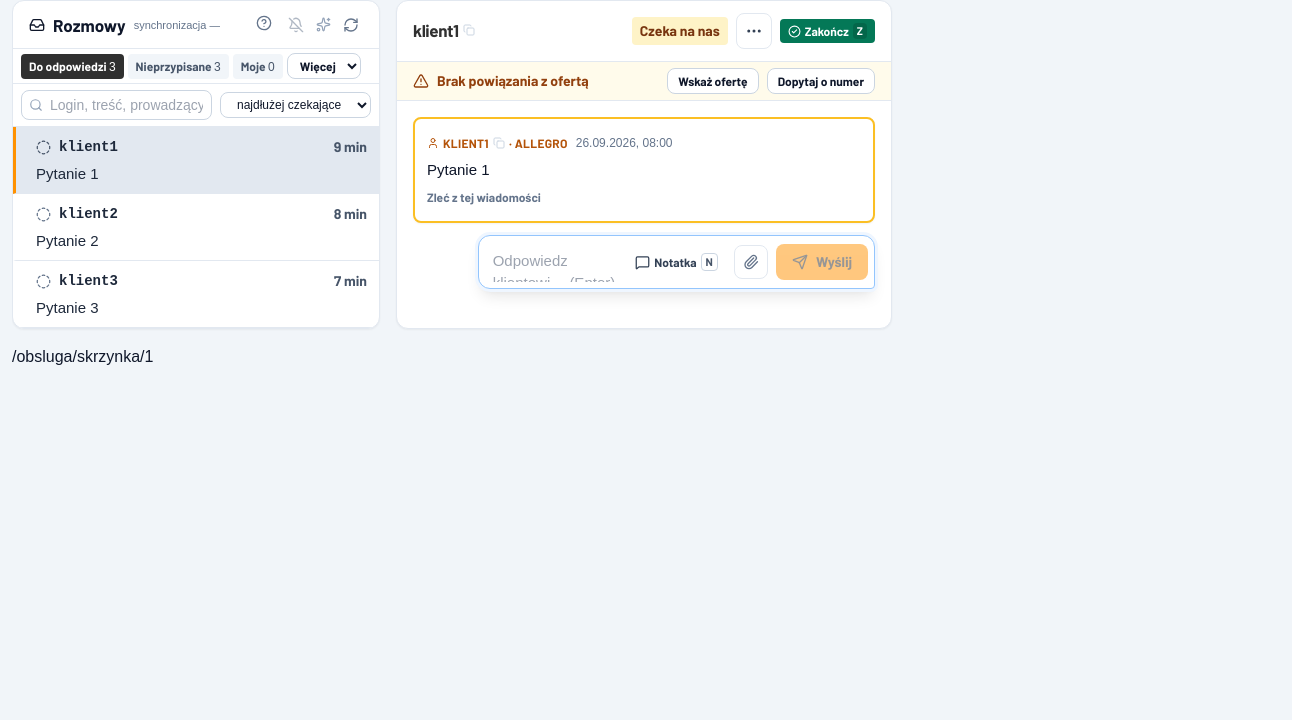
Test: EKRAN SKRZYNKI: pętla pracy › „Cofnij” po wysyłce wraca do rozmowy z całą treścią
This screenshot has width=1292, height=720.
Type "Moja odpowiedź" into the text box named "Szkic odpowiedzi" at (556, 262), box [493,242,619,282]
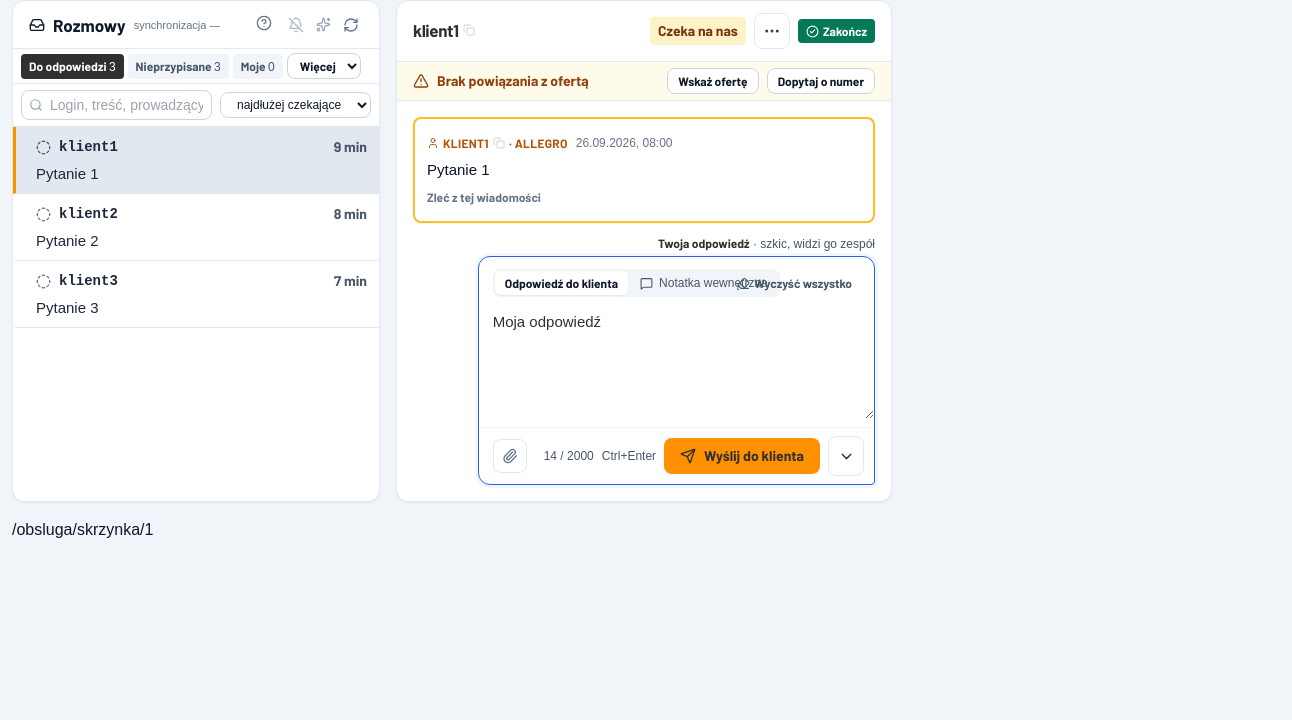
Click the button "Wyślij do klienta" at (742, 456), box [664,438,820,474]
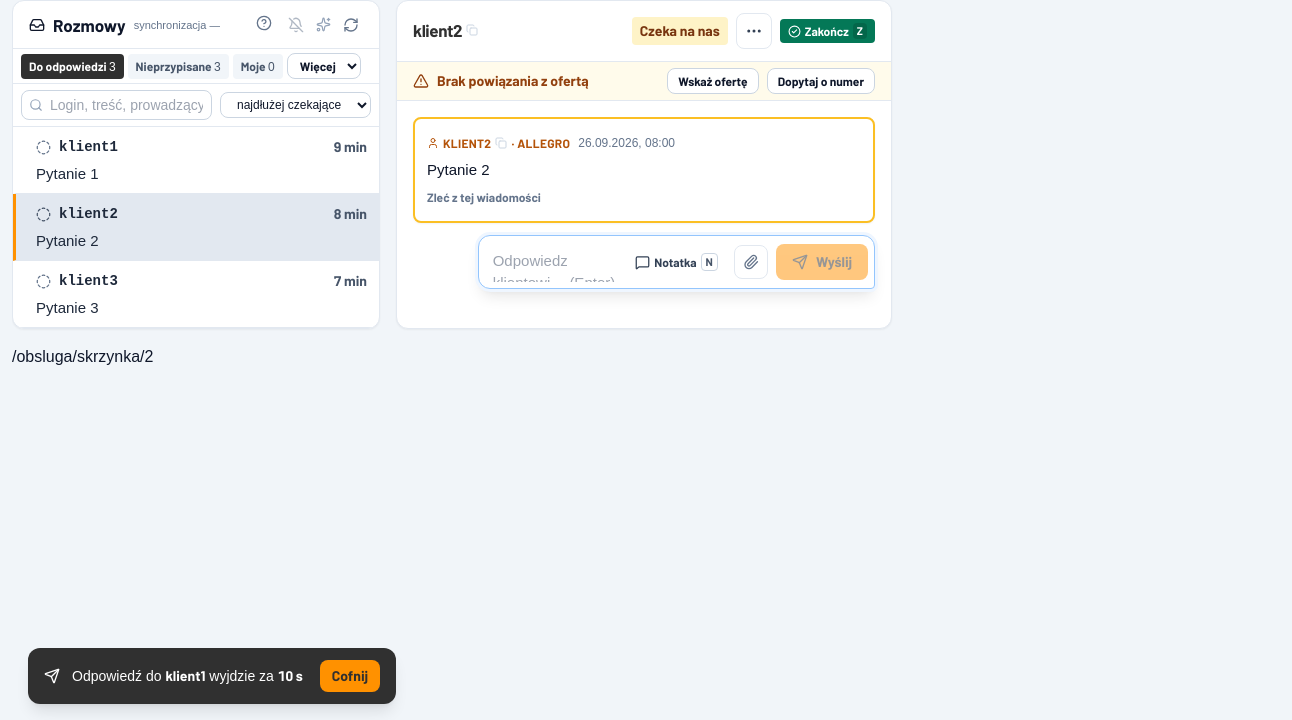
Expected: the text named "adres" reads "/obsluga/skrzynka/2", [12,348,153,365]
Click the button "Cofnij" at (350, 676), box [320,660,380,692]
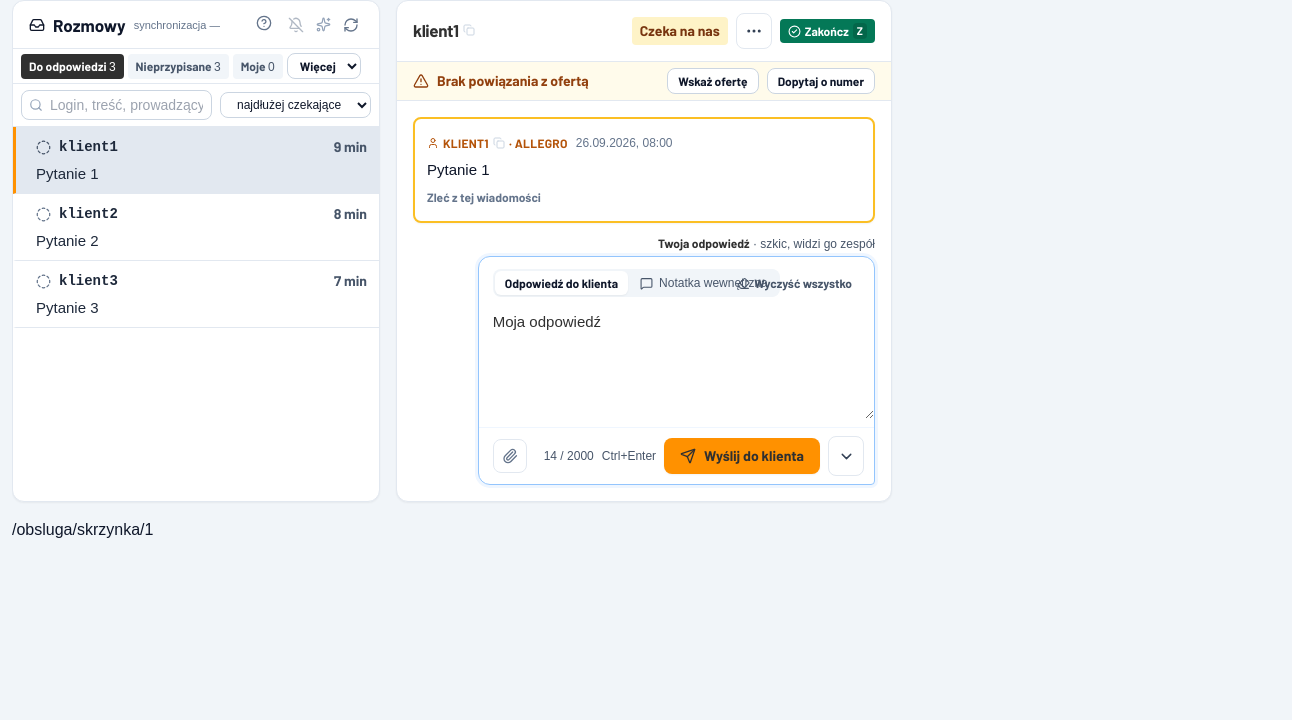
Expected: the text named "adres" reads "/obsluga/skrzynka/1", [12,521,153,538]
Expected: the text box named "Szkic odpowiedzi" holds "Moja odpowiedź", [479,299,874,419]
